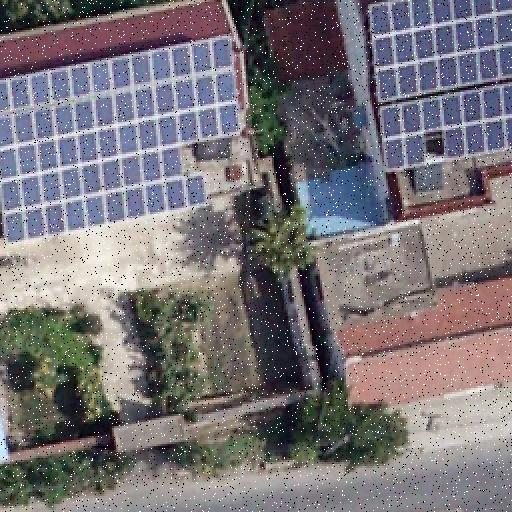solar-panel: (0, 34, 240, 242), (369, 0, 511, 104), (380, 83, 512, 173)
